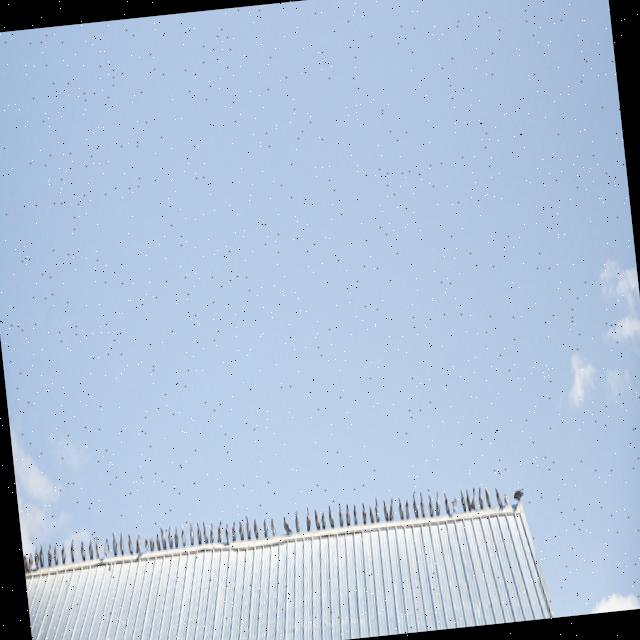bird: (154, 508, 264, 556), (104, 514, 212, 561), (384, 481, 494, 526), (342, 488, 440, 530), (302, 493, 392, 535), (464, 486, 478, 512), (512, 487, 526, 511), (432, 491, 442, 518), (158, 524, 168, 550), (442, 491, 452, 516), (386, 497, 396, 522), (282, 514, 293, 536), (494, 486, 504, 510), (133, 532, 142, 558), (343, 502, 352, 528), (418, 490, 426, 519), (502, 488, 512, 511), (244, 515, 253, 540), (458, 488, 467, 513), (411, 492, 419, 520), (372, 496, 380, 524), (110, 530, 118, 556), (94, 535, 102, 561), (304, 507, 312, 532), (293, 509, 301, 534), (476, 486, 484, 511), (426, 493, 434, 518), (118, 531, 126, 556), (336, 503, 344, 528), (396, 496, 404, 521), (402, 496, 410, 521), (312, 508, 320, 532), (484, 486, 492, 510), (166, 524, 174, 548), (200, 520, 208, 544), (326, 504, 334, 528), (252, 516, 260, 540), (179, 523, 187, 547), (154, 528, 162, 552), (187, 522, 195, 545), (126, 533, 134, 556), (172, 525, 180, 548), (351, 503, 359, 526), (102, 536, 110, 558), (262, 516, 270, 538), (270, 516, 278, 538), (230, 520, 238, 542), (237, 518, 245, 540), (222, 522, 230, 544), (367, 502, 375, 524), (86, 538, 94, 560), (381, 498, 388, 523), (319, 510, 327, 531), (216, 519, 223, 543), (208, 520, 215, 544), (360, 502, 367, 526), (195, 522, 202, 545), (148, 534, 156, 552), (451, 494, 458, 514), (80, 540, 86, 562)
